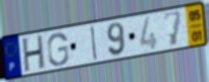4: (139, 14, 160, 51)
7: (163, 9, 183, 49)
9: (107, 21, 127, 58)
G: (46, 32, 70, 68)
H: (22, 33, 46, 74)
I: (90, 24, 99, 62)
